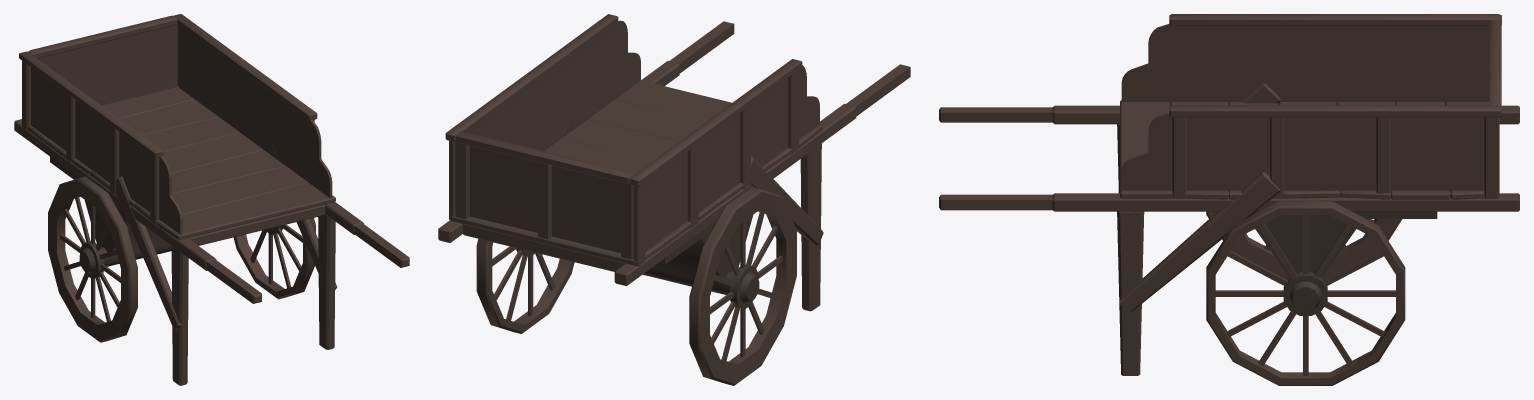
The model's file is car_09.glb.
The picture shows the model from 3 angles, left to right: view 1: azimuth 30°, elevation 25°; view 2: azimuth 150°, elevation 25°; view 3: azimuth 270°, elevation 25°; orthographic projection. The views are drawn at different scales.
Parts seen in each view (by area): view 1: car_09; view 2: car_09; view 3: car_09.
Part boxes in pixels (box(x1,y1,x2,y2)): car_09: box(14, 14, 409, 385); car_09: box(438, 14, 910, 385); car_09: box(939, 14, 1519, 385).
Size of the model in its own units: 1.17 by 1.27 by 2.49.
Materials: 1 (1 with a texture image).
